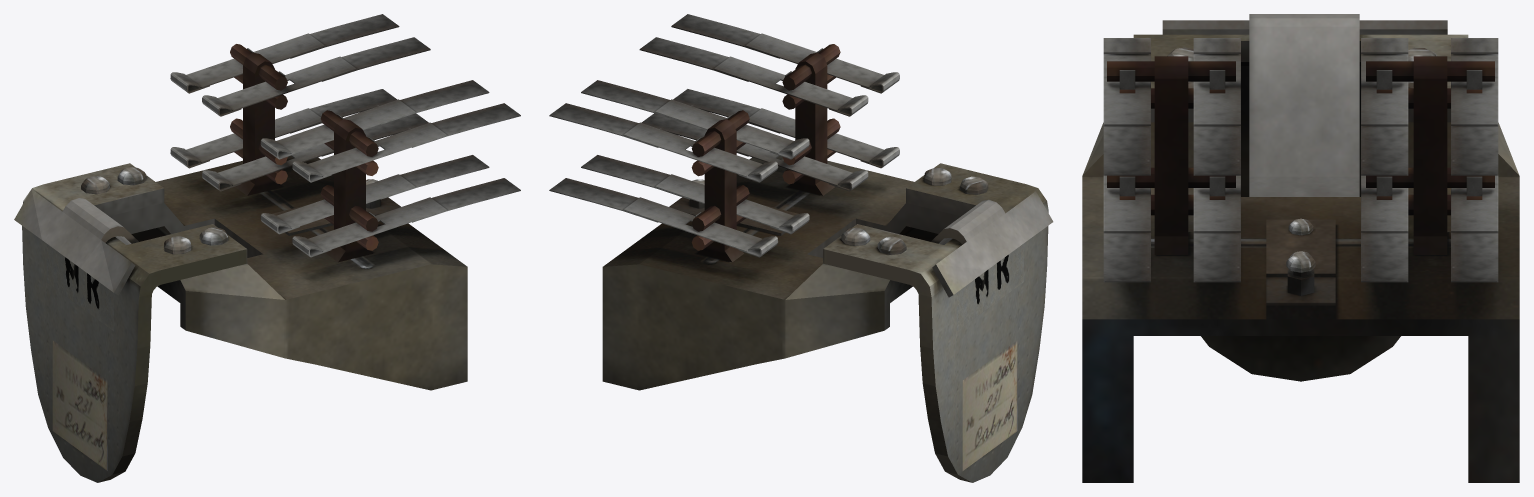
3 views of the same model, side by side, from view 1: azimuth 30°, elevation 25°; view 2: azimuth 150°, elevation 25°; view 3: azimuth 270°, elevation 25° (orthographic). The views are drawn at different scales.
Parts seen in each view (by area): view 1: ya005, k007, k008, p005; view 2: ya005, k007, k008, p005; view 3: ya005, k007, p005, k008.
Part boxes in pixels (box(x1,y1,x2,y2)): ya005: box(14, 155, 467, 482); k007: box(170, 14, 520, 182); k008: box(170, 89, 520, 257); p005: box(230, 44, 378, 262); ya005: box(602, 156, 1053, 482); k007: box(549, 14, 899, 182); k008: box(549, 89, 899, 257); p005: box(691, 44, 840, 262); ya005: box(1082, 14, 1519, 482); k007: box(1103, 38, 1498, 175); p005: box(1107, 56, 1494, 254); k008: box(1103, 175, 1498, 282).
Bounding box in the file's own units: 0.0727 × 0.059 × 0.0496.
